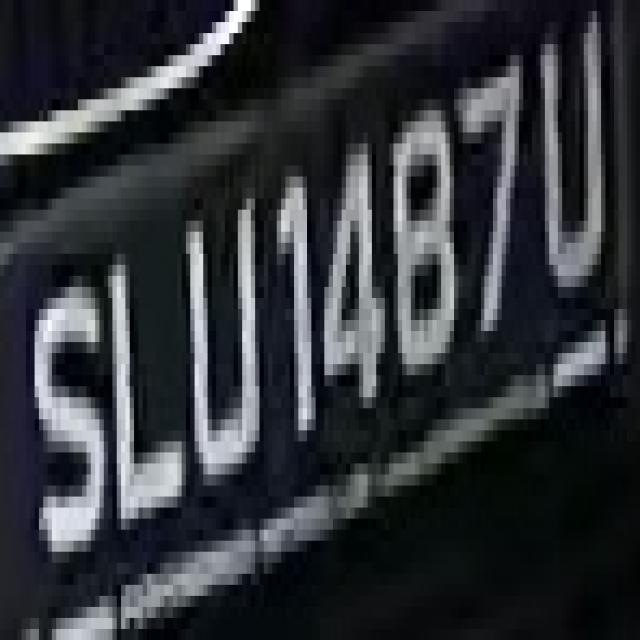1: (272, 132, 324, 486)
4: (312, 100, 389, 430)
7: (446, 22, 536, 353)
8: (380, 100, 462, 386)
L: (108, 232, 190, 552)
S: (22, 254, 104, 574)
U: (177, 176, 268, 496), (523, 0, 614, 309)
